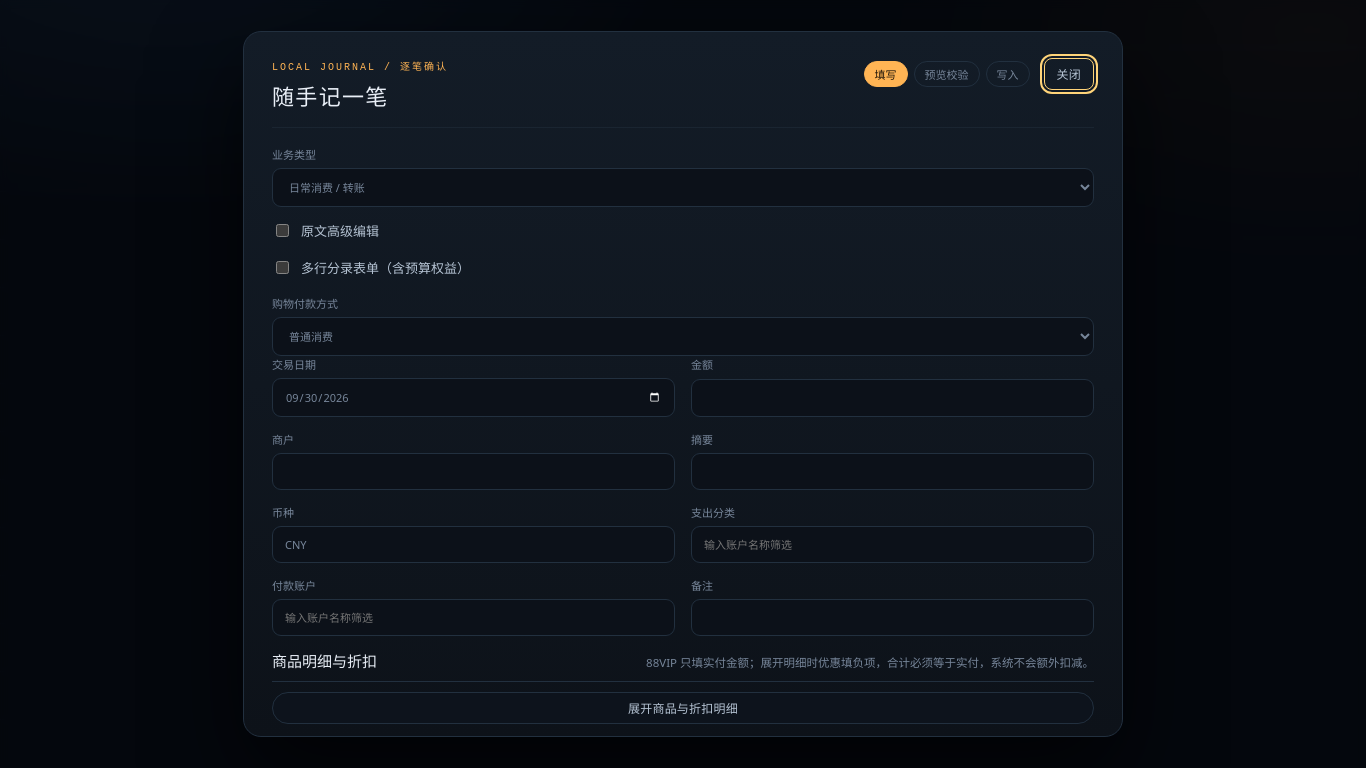
金额失焦去除空白和千位逗号，预览提交规范化字符串
In the field labelled "金额": (892,398) [691,379,1094,417], type "12.30"
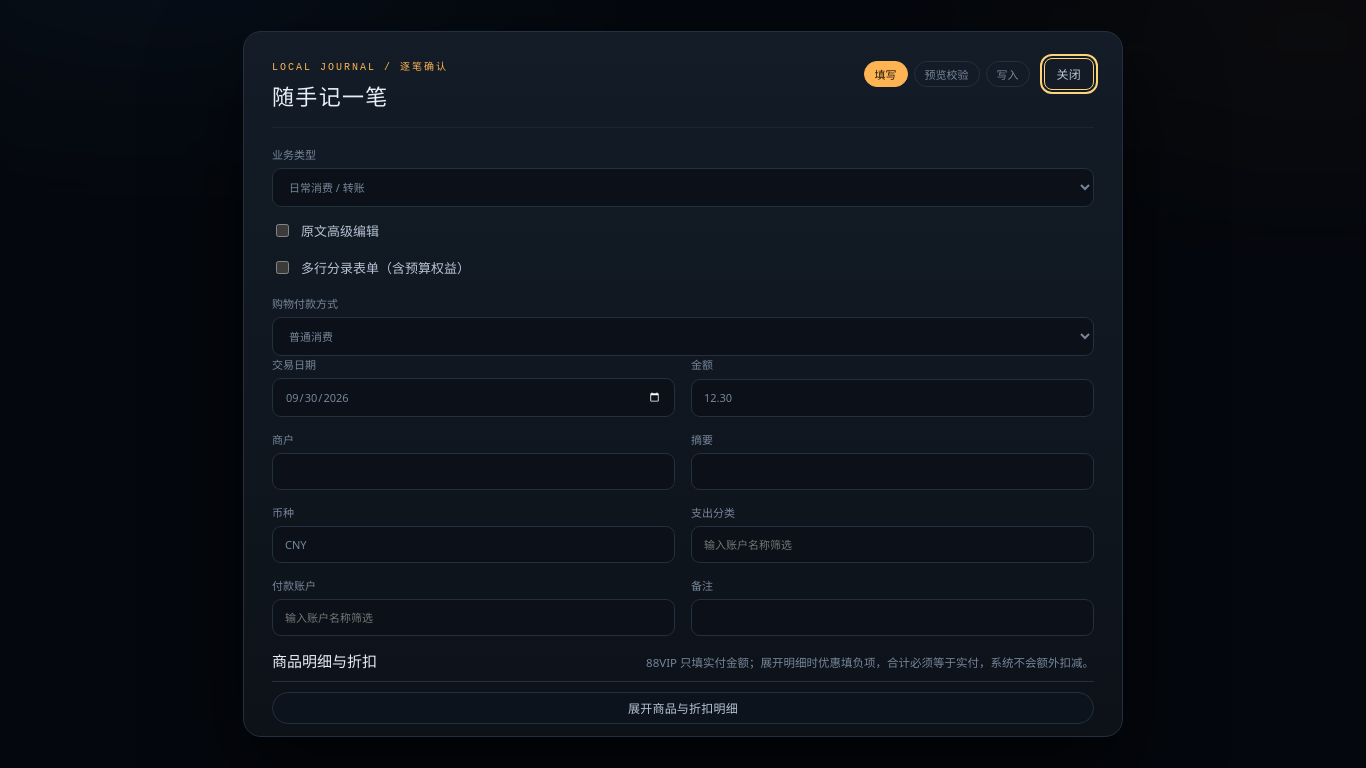
In the dropdown labelled "商户": (474,471) [272,453,675,490], type "超市"
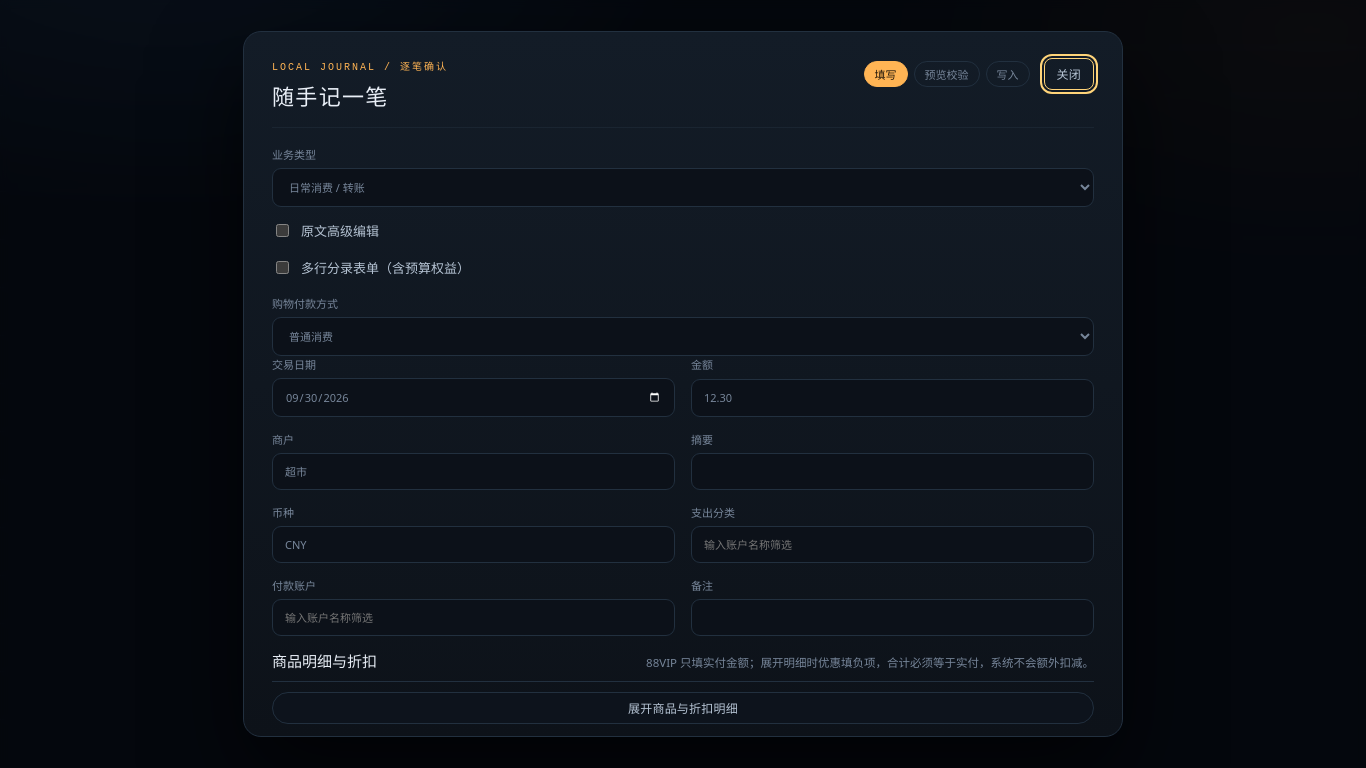
In the dropdown labelled "支出分类": (892,544) [691,526,1094,563], type "Expenses:Food"
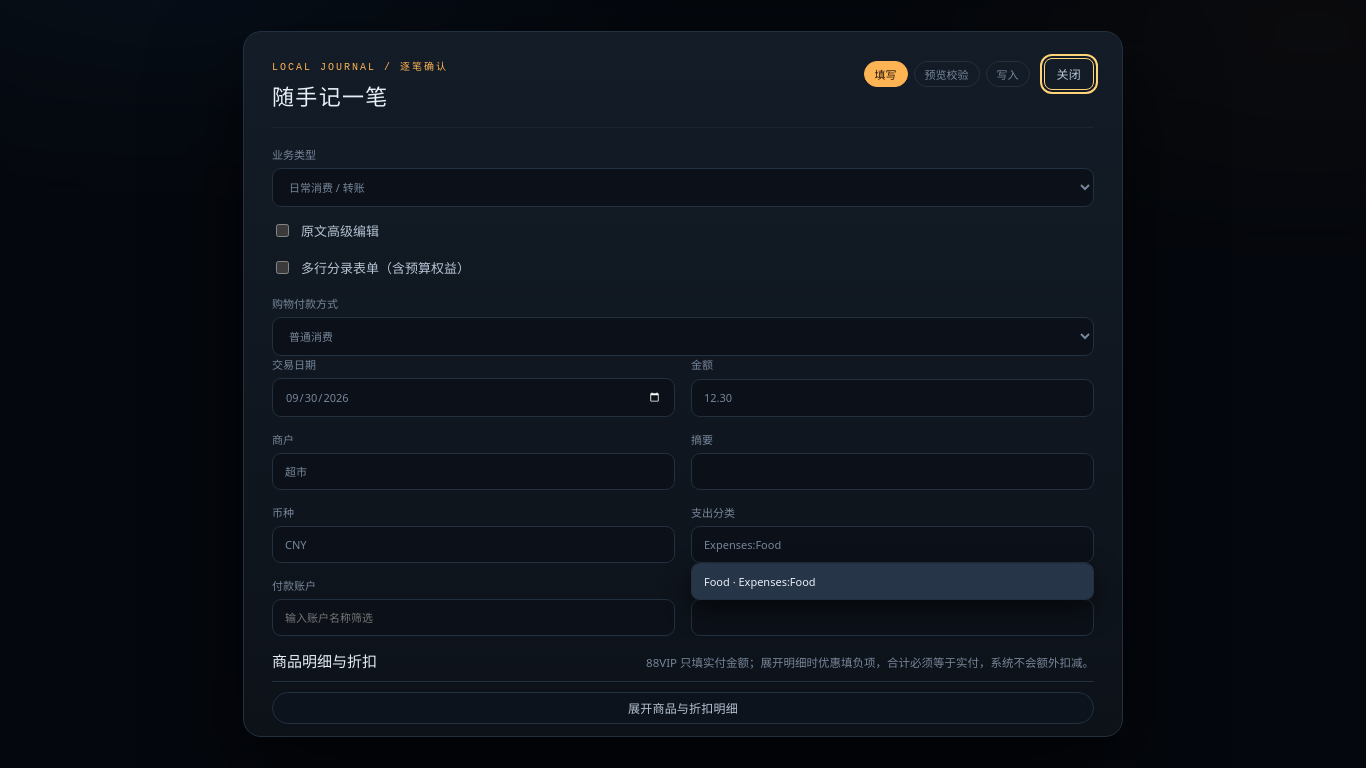
In the dropdown labelled "付款账户": (474,617) [272,599,675,636], type "Assets:Cash"
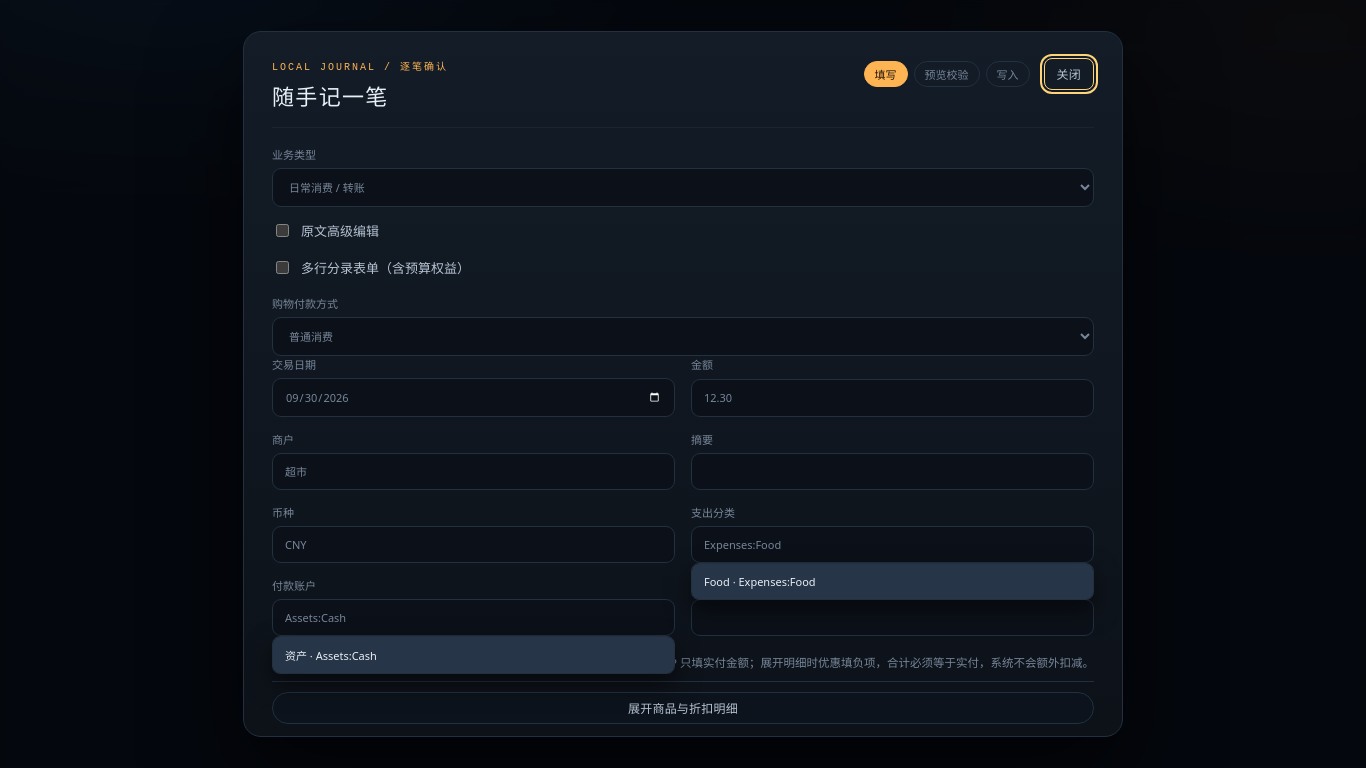
Replace the text in the field labelled "金额" with " 2,000.12345678 ": (892,398) [691,379,1094,417]
(page scrolled)
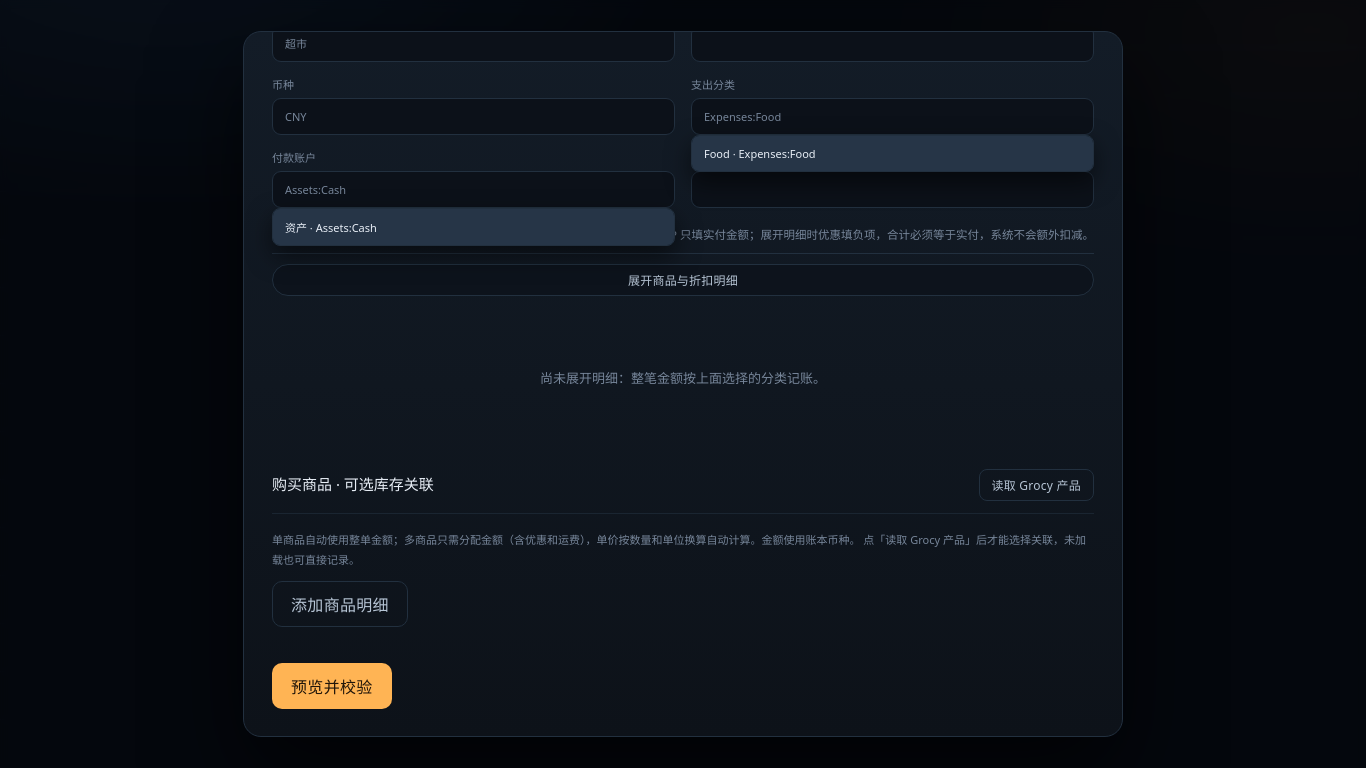
Click the button "预览并校验": (332,686) [272,663,392,709]
(page scrolled)
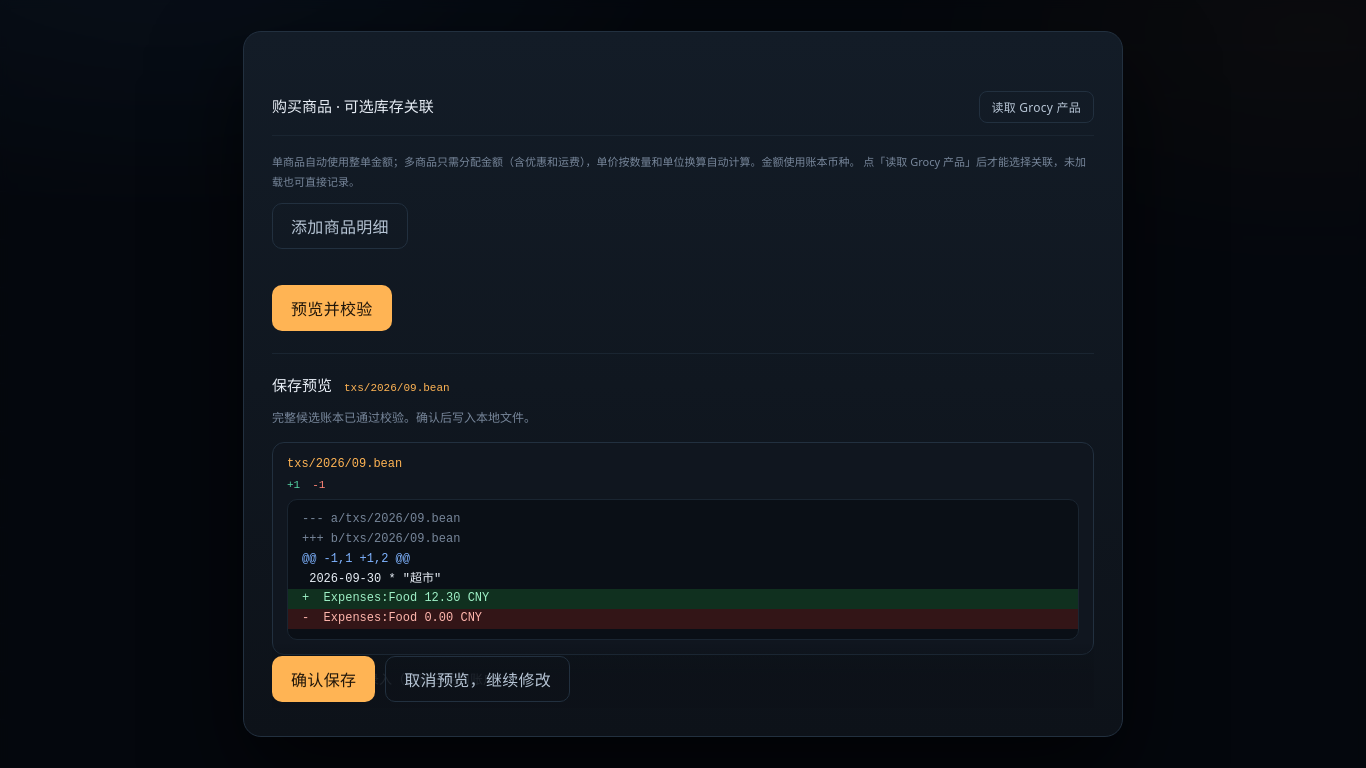
expect the heading "保存预览" is shown: met, box [272,374,332,395]
